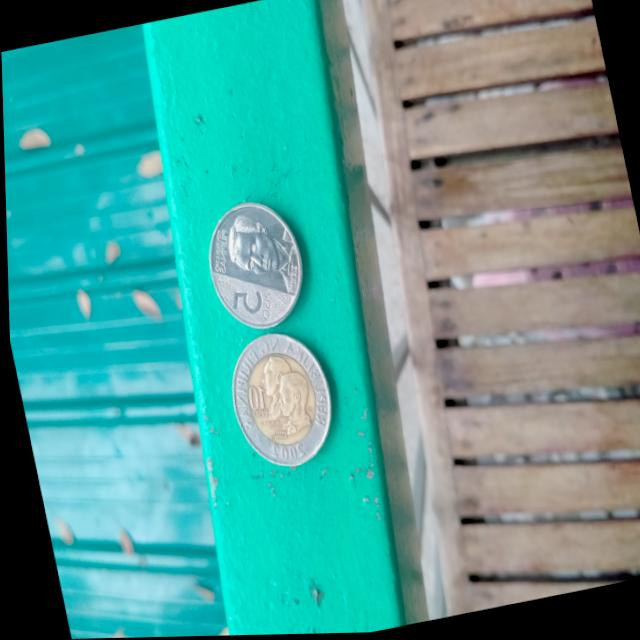10_Old_Front: (222, 333, 335, 474)
5_New_Front: (200, 203, 310, 330)
